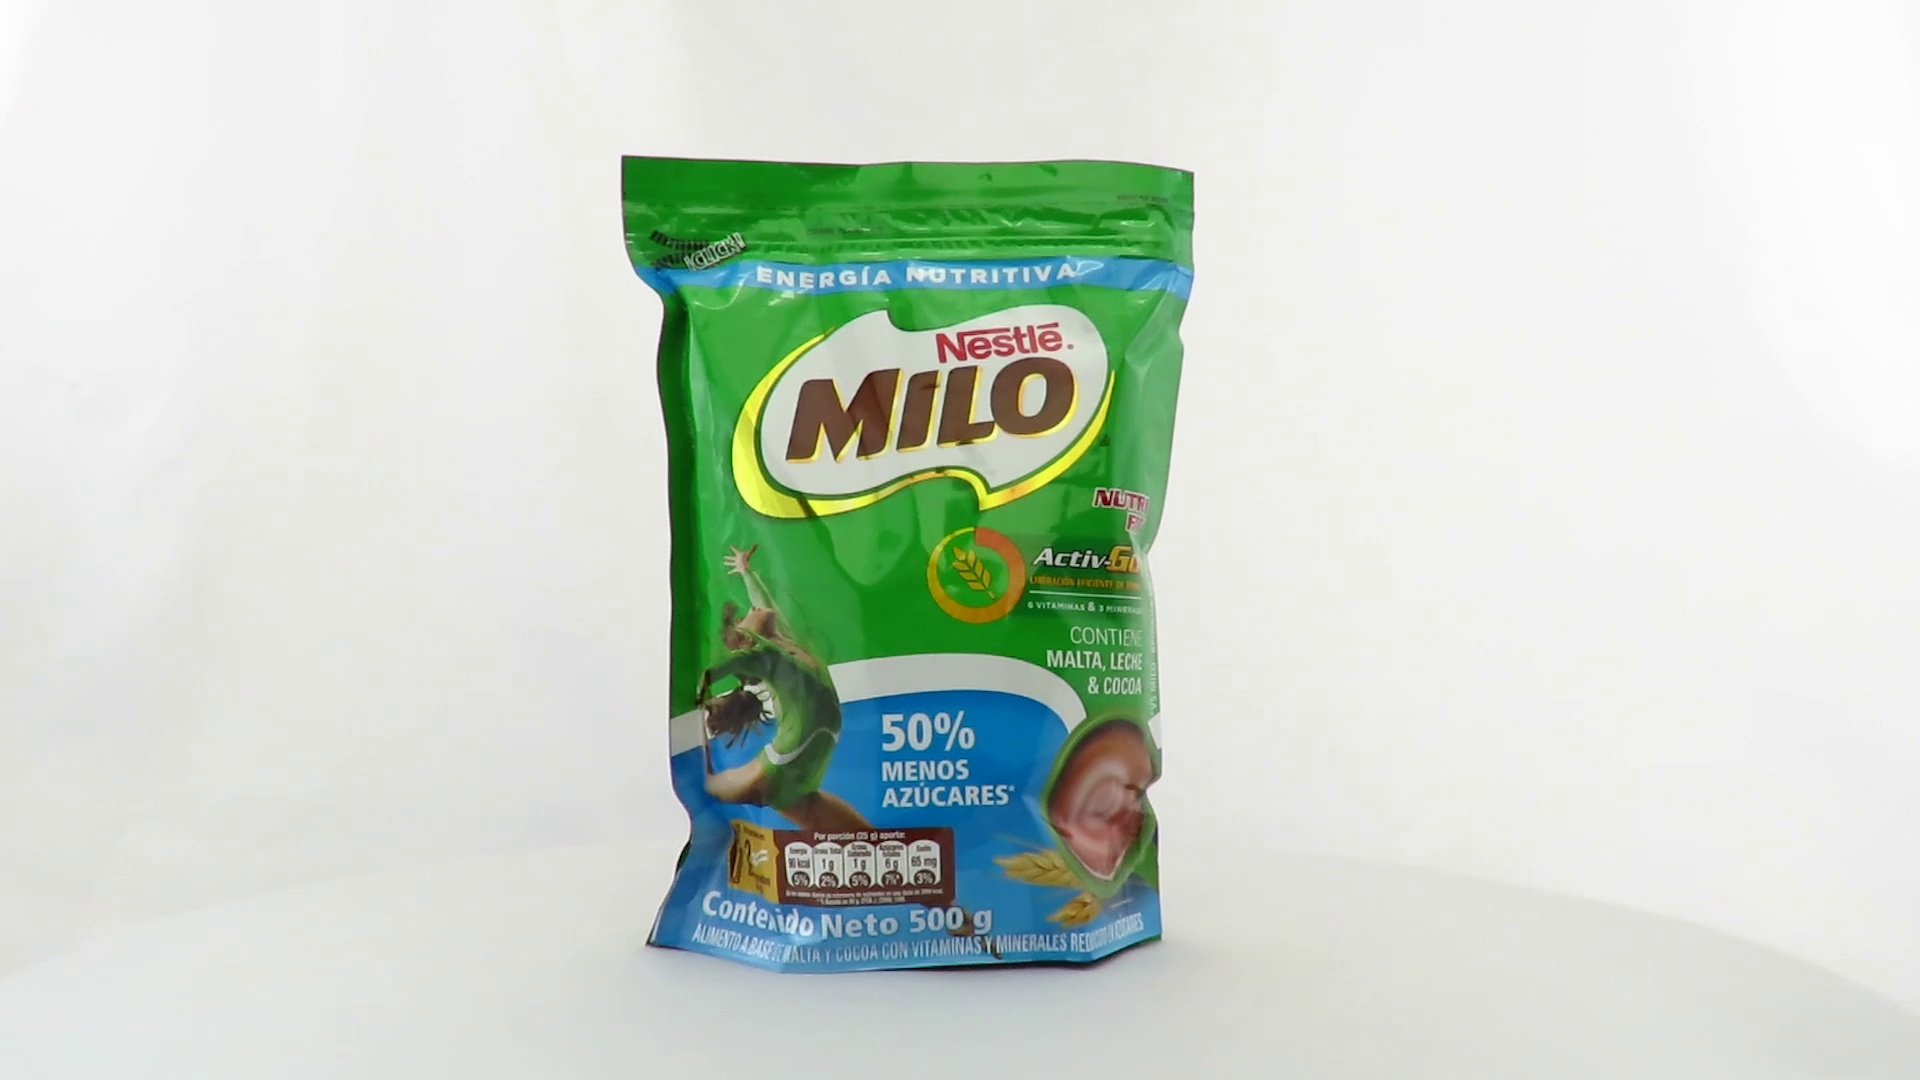COL0170205DYP50000: (616, 150, 1201, 981)
